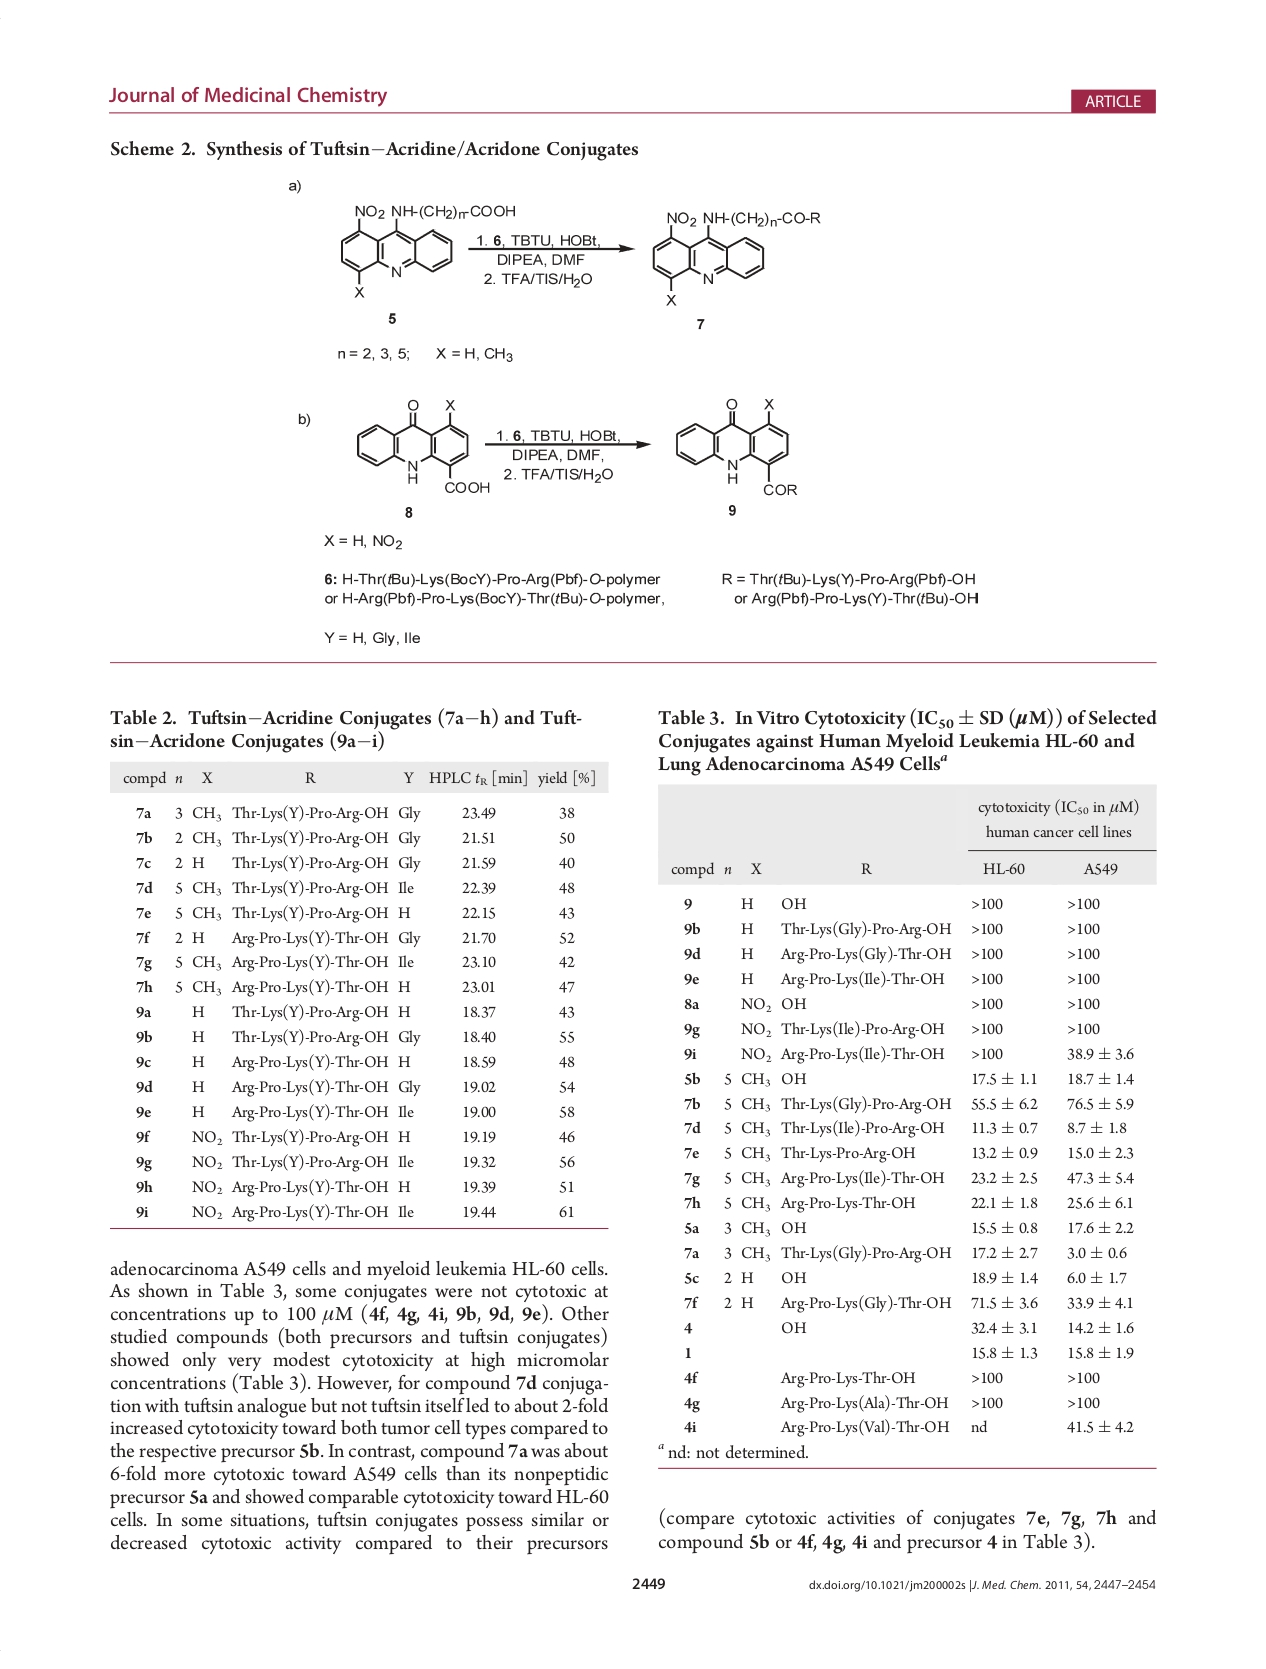exist_molecular: (331, 201, 519, 299), (646, 206, 822, 310), (350, 392, 493, 497), (668, 394, 799, 499)
